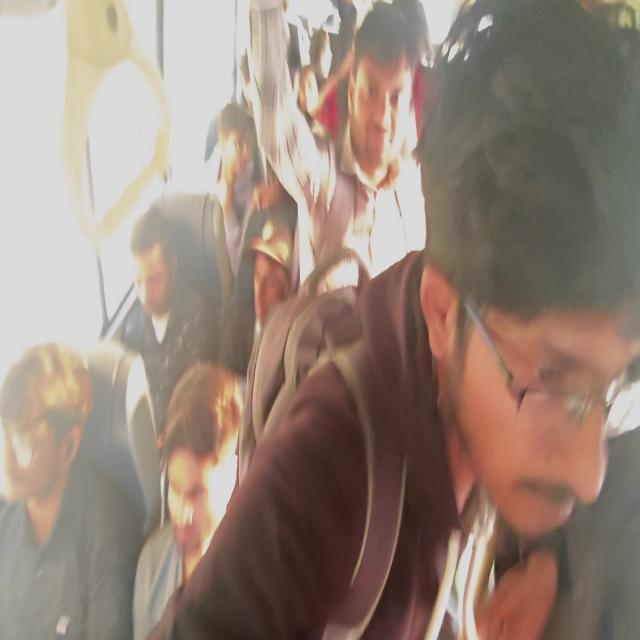person: (421, 0, 638, 320), (248, 1, 422, 296), (347, 258, 471, 635), (453, 281, 632, 540), (134, 361, 244, 638), (221, 205, 295, 394), (246, 278, 316, 446), (212, 100, 264, 283), (430, 0, 492, 151), (161, 360, 244, 467), (0, 496, 59, 637), (3, 342, 94, 432), (571, 1, 640, 110), (125, 353, 163, 529), (240, 312, 275, 476), (5, 404, 66, 498), (356, 2, 424, 81), (298, 24, 342, 136), (215, 291, 261, 386), (212, 189, 239, 321), (137, 567, 184, 640), (414, 39, 446, 145), (246, 213, 295, 276), (282, 12, 312, 112), (492, 516, 532, 589), (200, 192, 224, 312), (130, 205, 182, 258), (136, 240, 172, 314), (118, 293, 157, 360), (237, 40, 262, 132), (594, 1, 640, 34), (217, 101, 253, 143), (330, 41, 356, 89), (412, 61, 427, 139), (308, 26, 332, 67), (335, 3, 357, 45), (286, 20, 302, 72), (204, 113, 220, 164), (239, 50, 251, 88)
